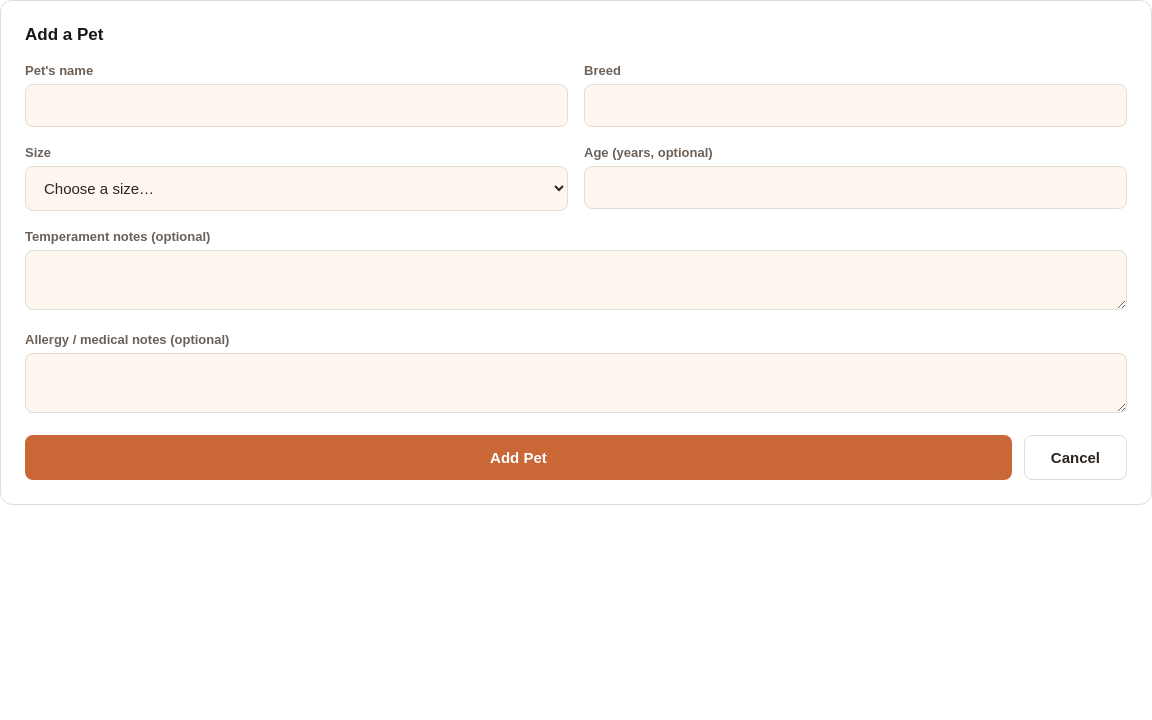
Test case: PetForm — form validation › add mode: requires breed once name is filled
Type "Biscuit" into the field with test id "add-pet-form-name-input". click: (296, 106)
box: 25,84 -> 568,127
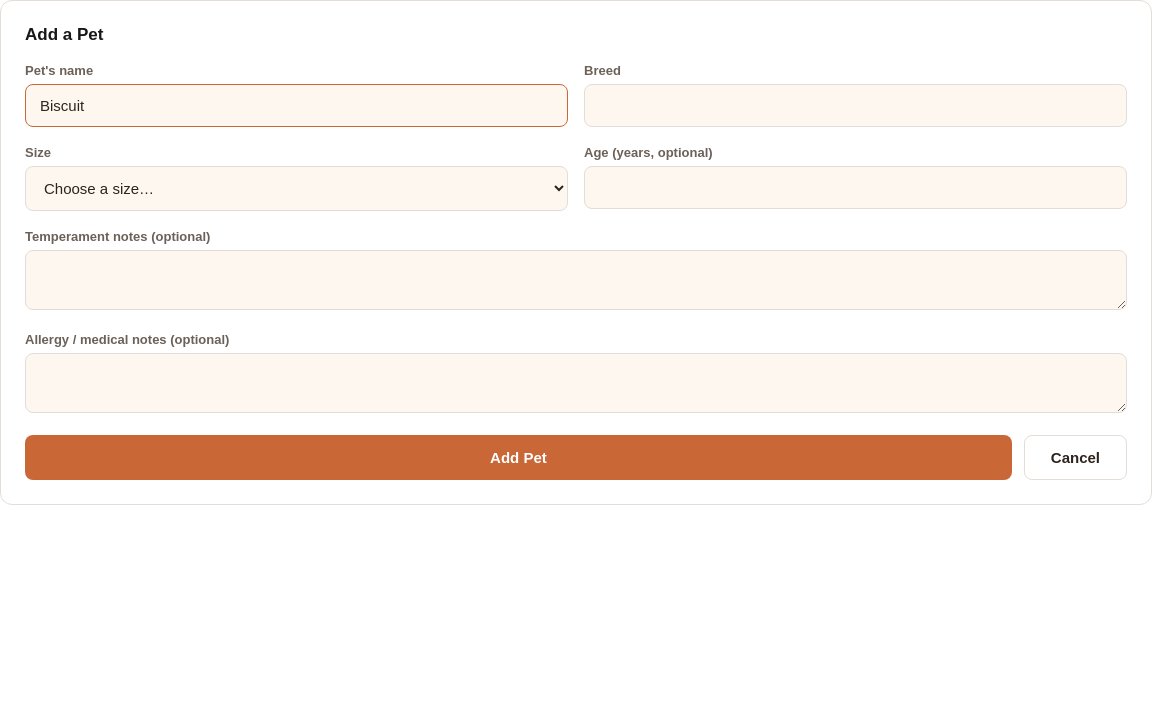
Click the button with test id "add-pet-form-save-button". click: (518, 458)
box: 25,435 -> 1012,480
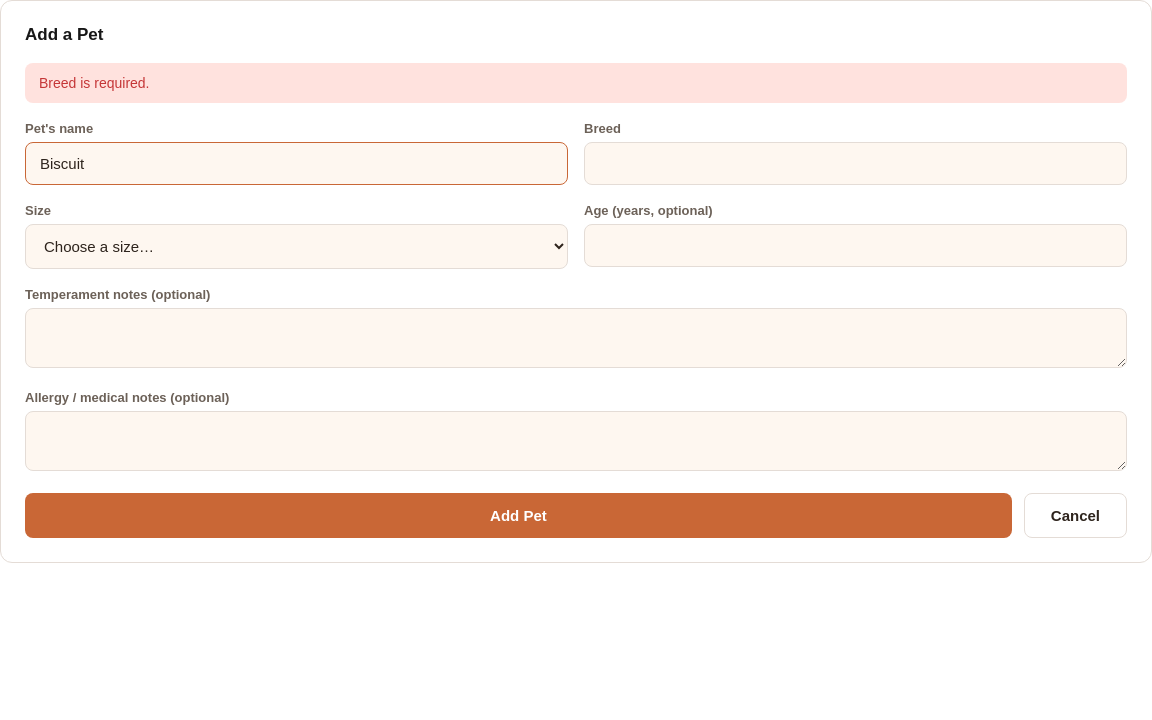
Result: the text with test id "add-pet-form-error" reads "Breed is required." at 39,75 -> 150,91
